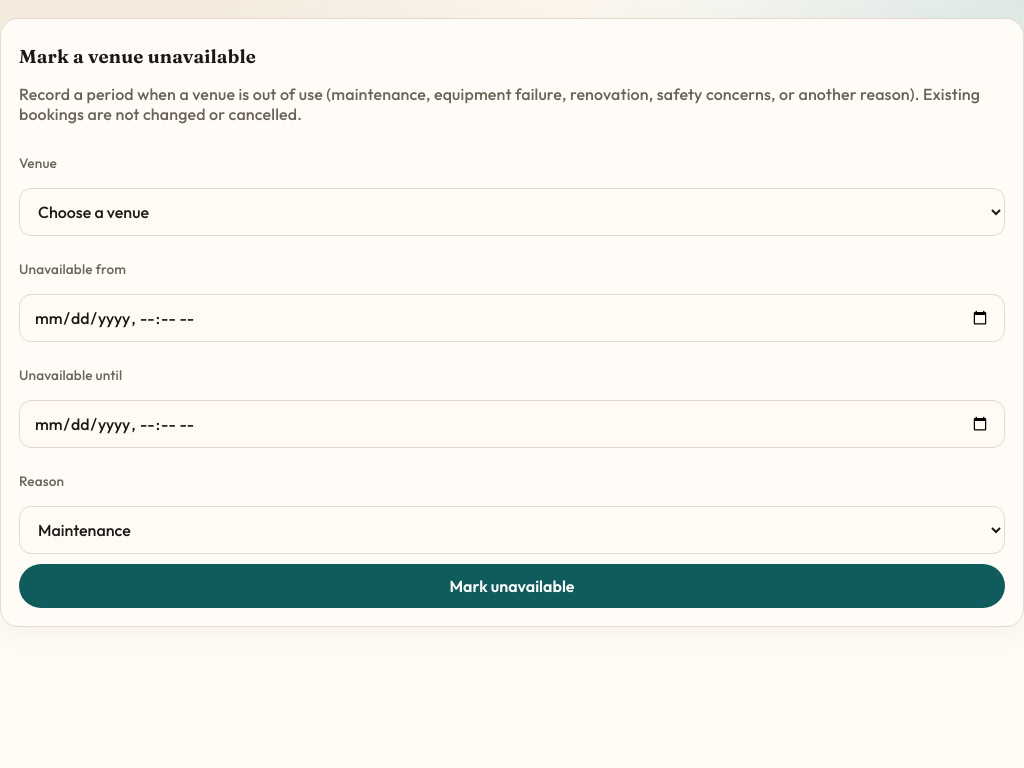
Test: SCRUM-72 BlockVenueCard › shows the server's validation message (e.g. end not after start)
Select "Hall A" in the dropdown labelled "Venue" at (512, 212), box [19,188,1005,236]
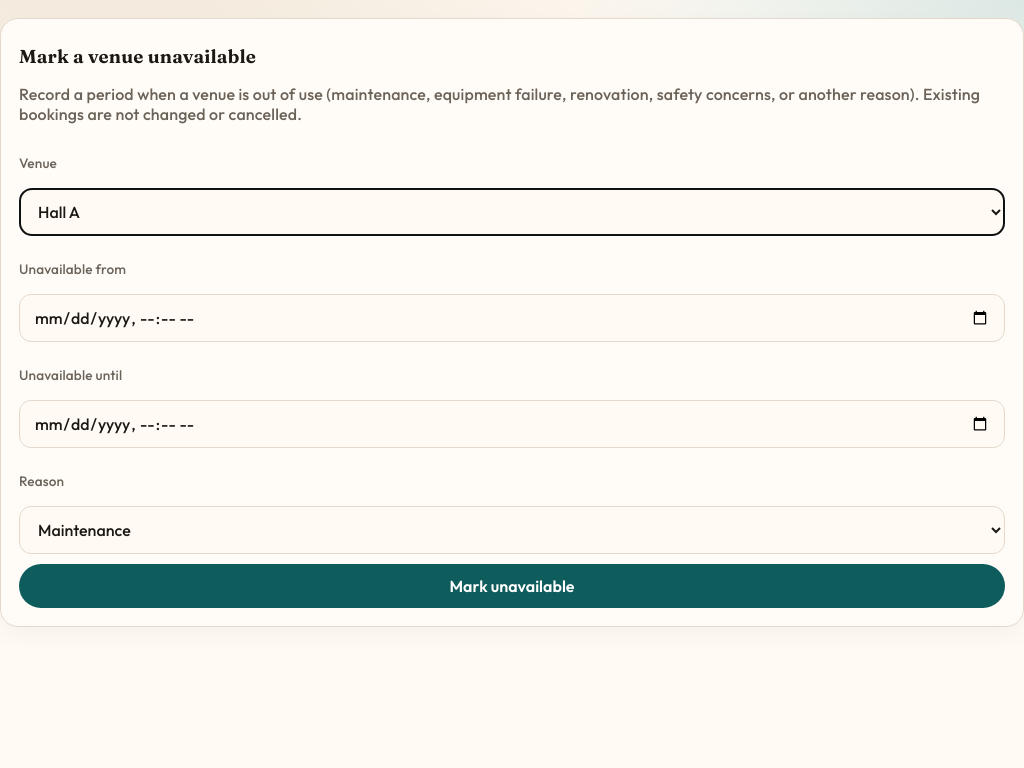
Type "2026-11-18T09:00" into the field labelled "Unavailable from".
click(512, 318); type("2026-11-18T09:00")  # box [19,294,1005,342]
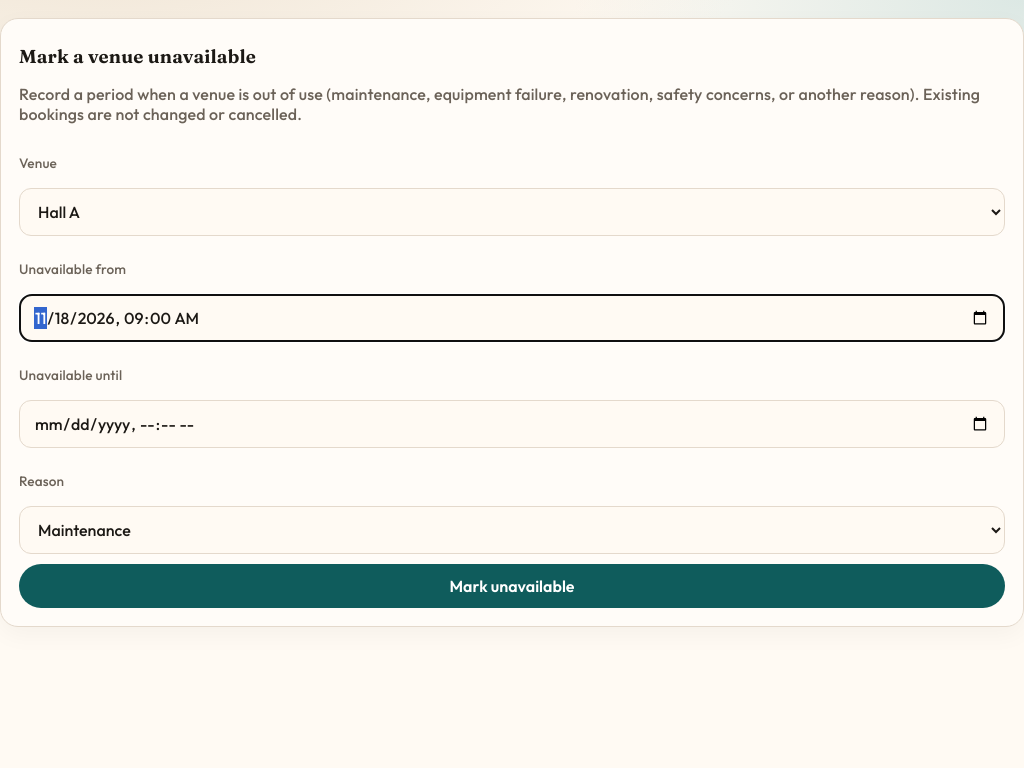
Type "2026-11-18T17:00" into the field labelled "Unavailable until".
click(512, 424); type("2026-11-18T17:00")  # box [19,400,1005,448]
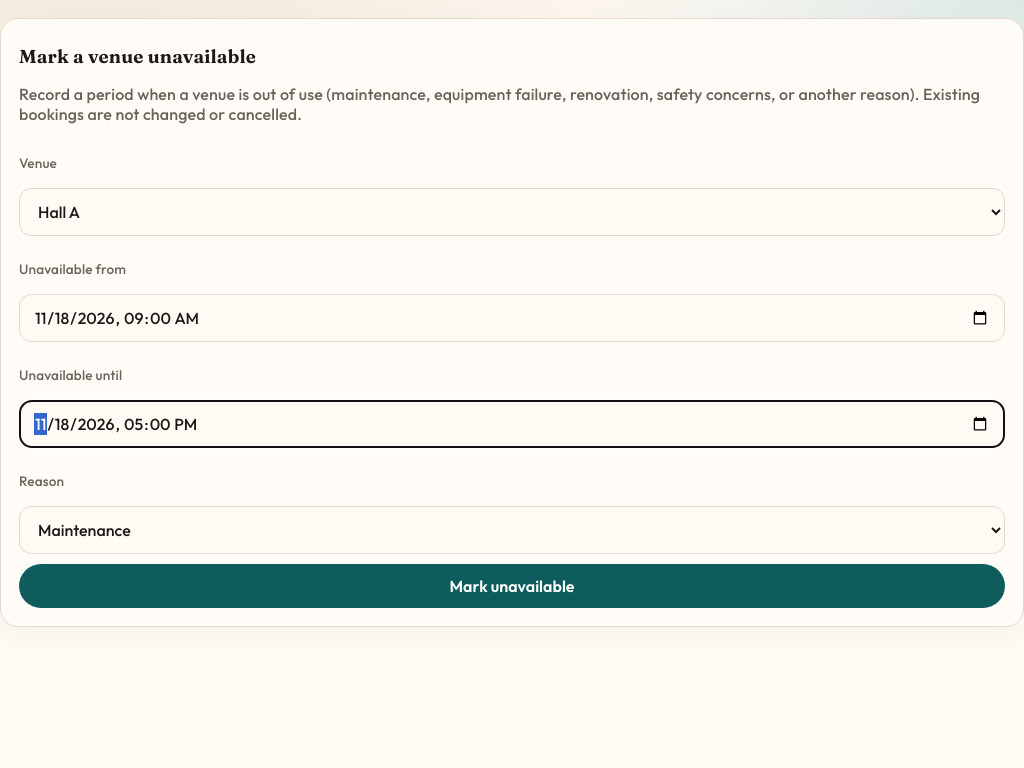
Click the button "Mark unavailable".
click(512, 586)  # box [19,564,1005,608]
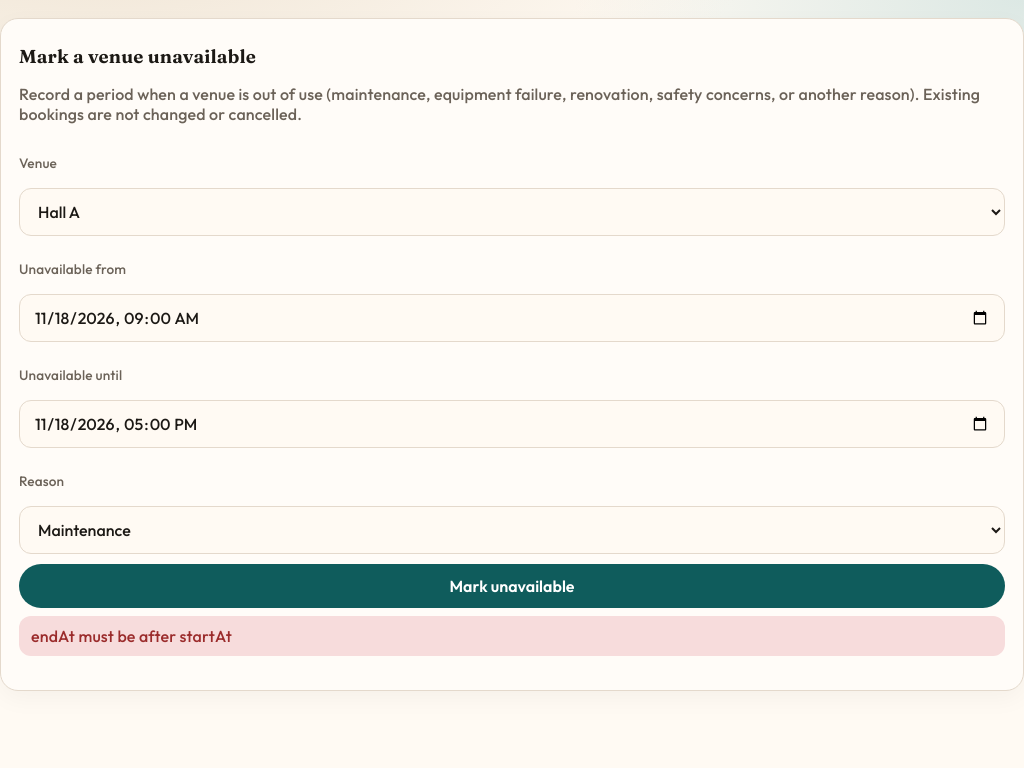
Check: the text "endAt must be after startAt" is shown, box [19,616,1005,656]
